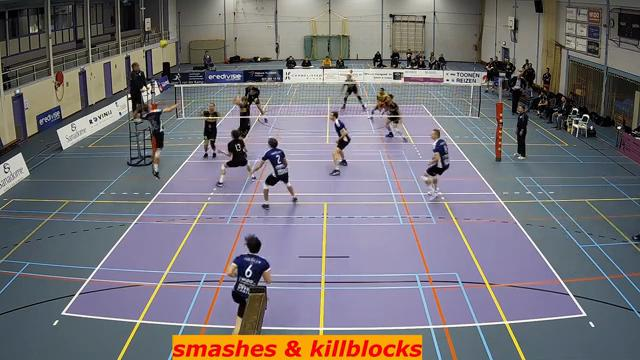attacco: (126, 99, 188, 185)
